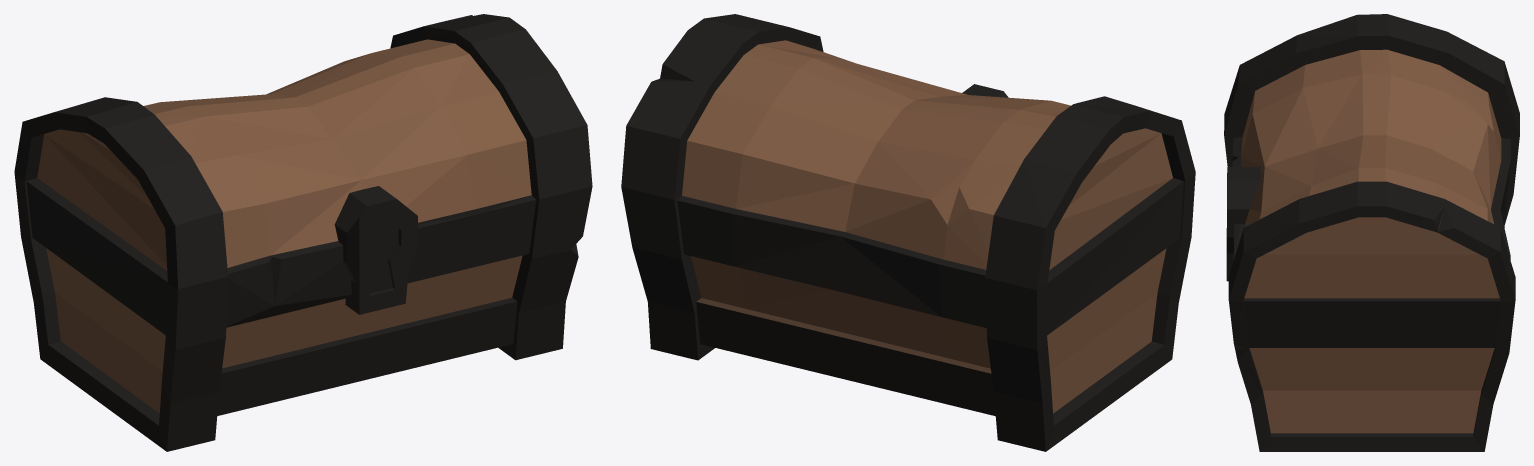
File: Chest_1.fbx
3 views of the same model, side by side, from view 1: azimuth 30°, elevation 25°; view 2: azimuth 150°, elevation 25°; view 3: azimuth 270°, elevation 25° (orthographic). The views are drawn at different scales.
Visible parts, largest first — view 1: Chest_1; view 2: Chest_1; view 3: Chest_1.
Part boxes in pixels (x1=…): Chest_1: x1=14, y1=14, x2=592, y2=451; Chest_1: x1=621, y1=14, x2=1195, y2=451; Chest_1: x1=1224, y1=14, x2=1519, y2=451.
Bounding box in the file's own units: 56.73 × 36.7 × 37.53.
